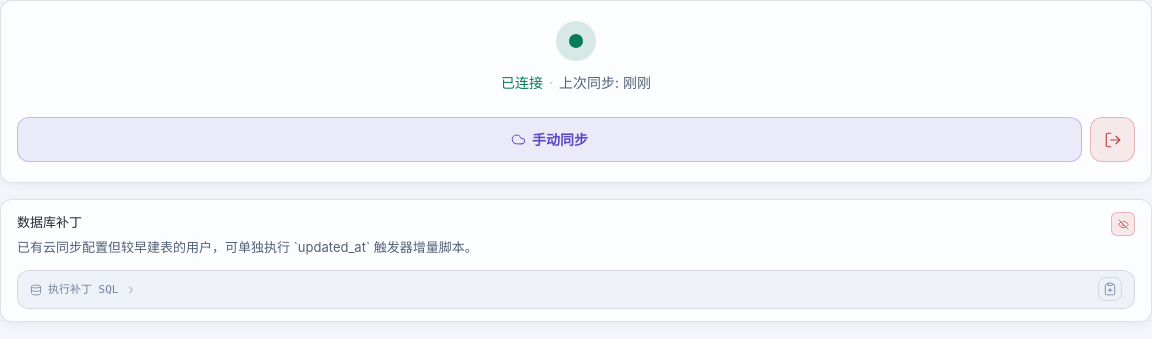
CloudSyncSection › configured › should hide the patch card after confirmation click
This screenshot has width=1152, height=339.
What coordinates should you click on to do the following:
click the button named "隐藏补丁卡片"
I would click on:
 (1123, 224)
Its box is 1111,212 -> 1135,236.
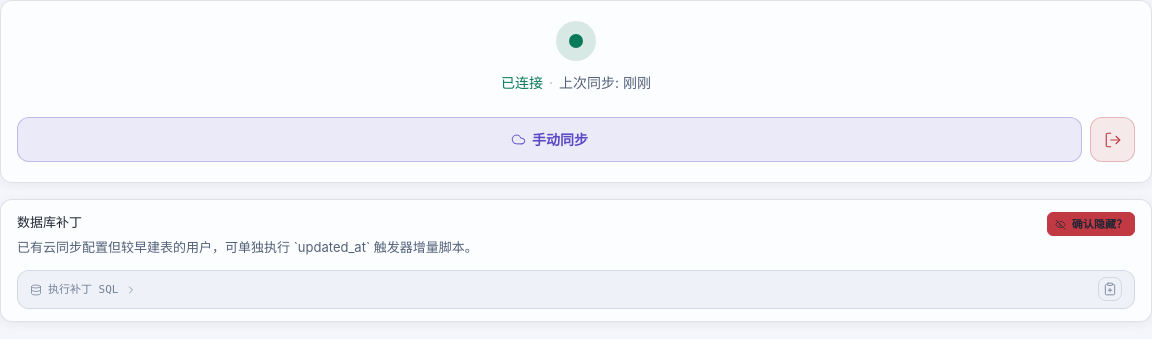
What coordinates should you click on to do the following:
click the button with aria-label "确认隐藏补丁卡片"
I would click on:
 (1091, 224)
Its box is 1047,212 -> 1135,236.
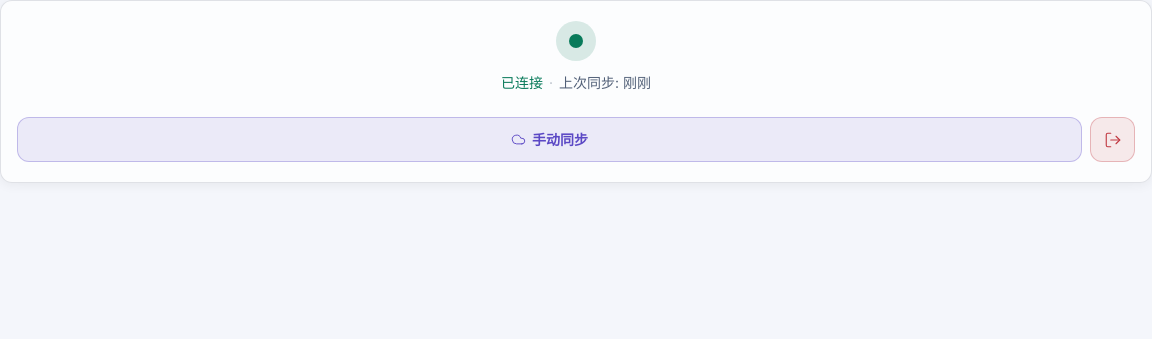
Now the text "数据库补丁" is gone
